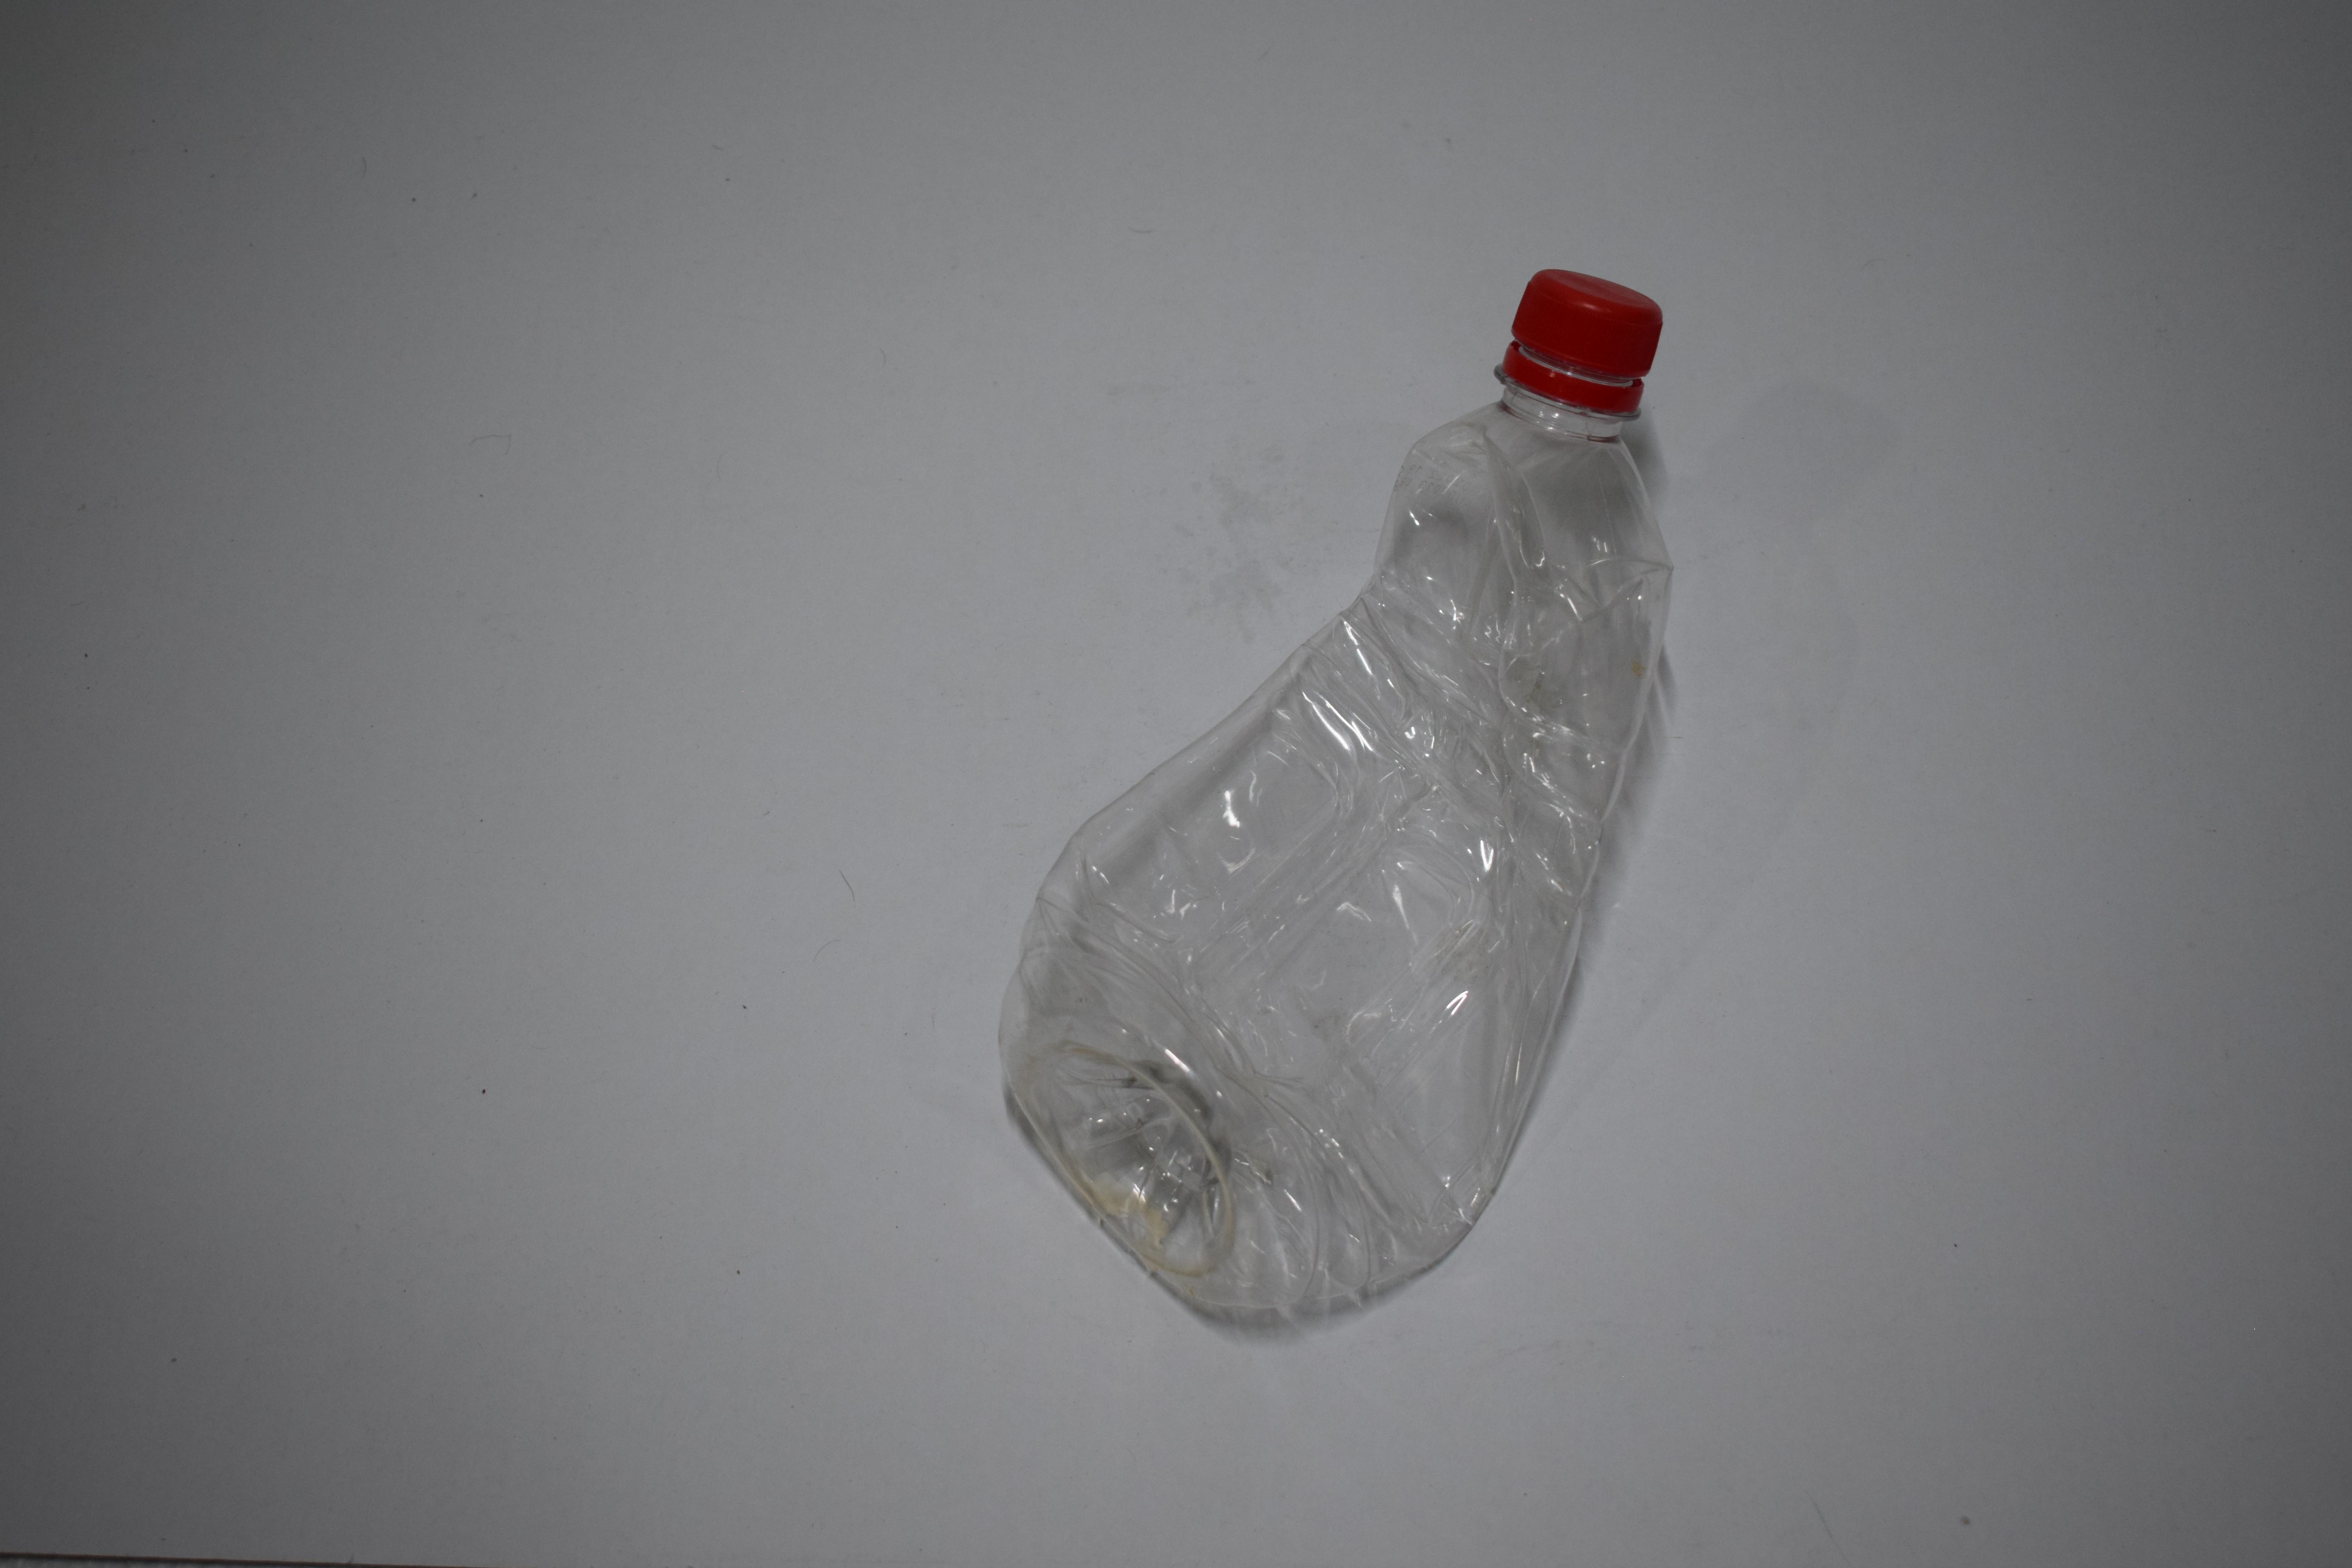bottle: (0, 0, 499, 551)
